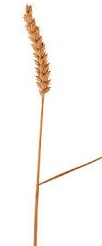wheat: (21, 2, 53, 107)
